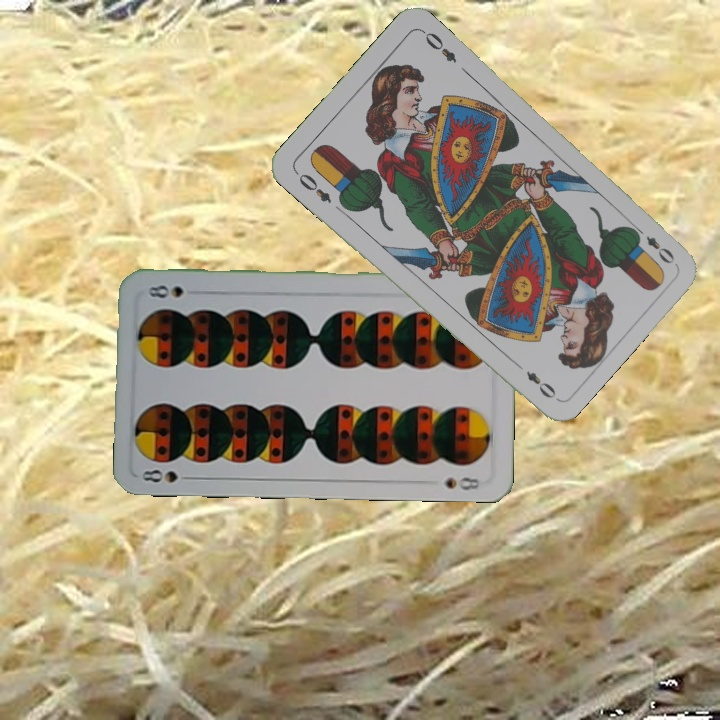EO: (628, 222, 678, 267), (291, 167, 334, 206)
S8: (138, 466, 197, 486)
